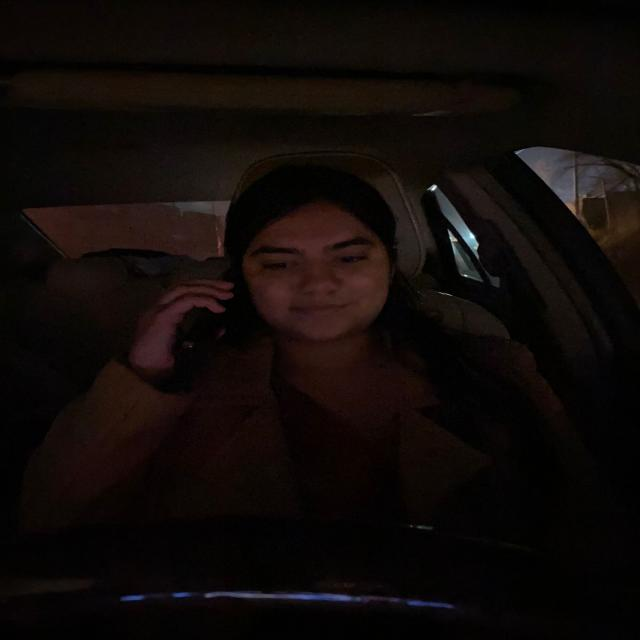person: (237, 180, 403, 344)
